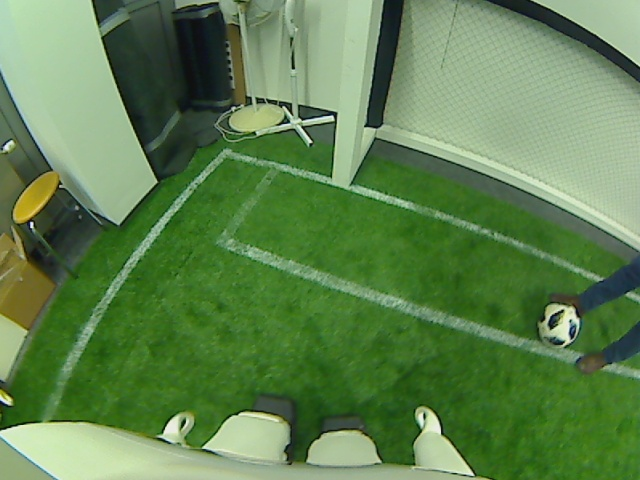ball: (536, 300, 581, 350)
